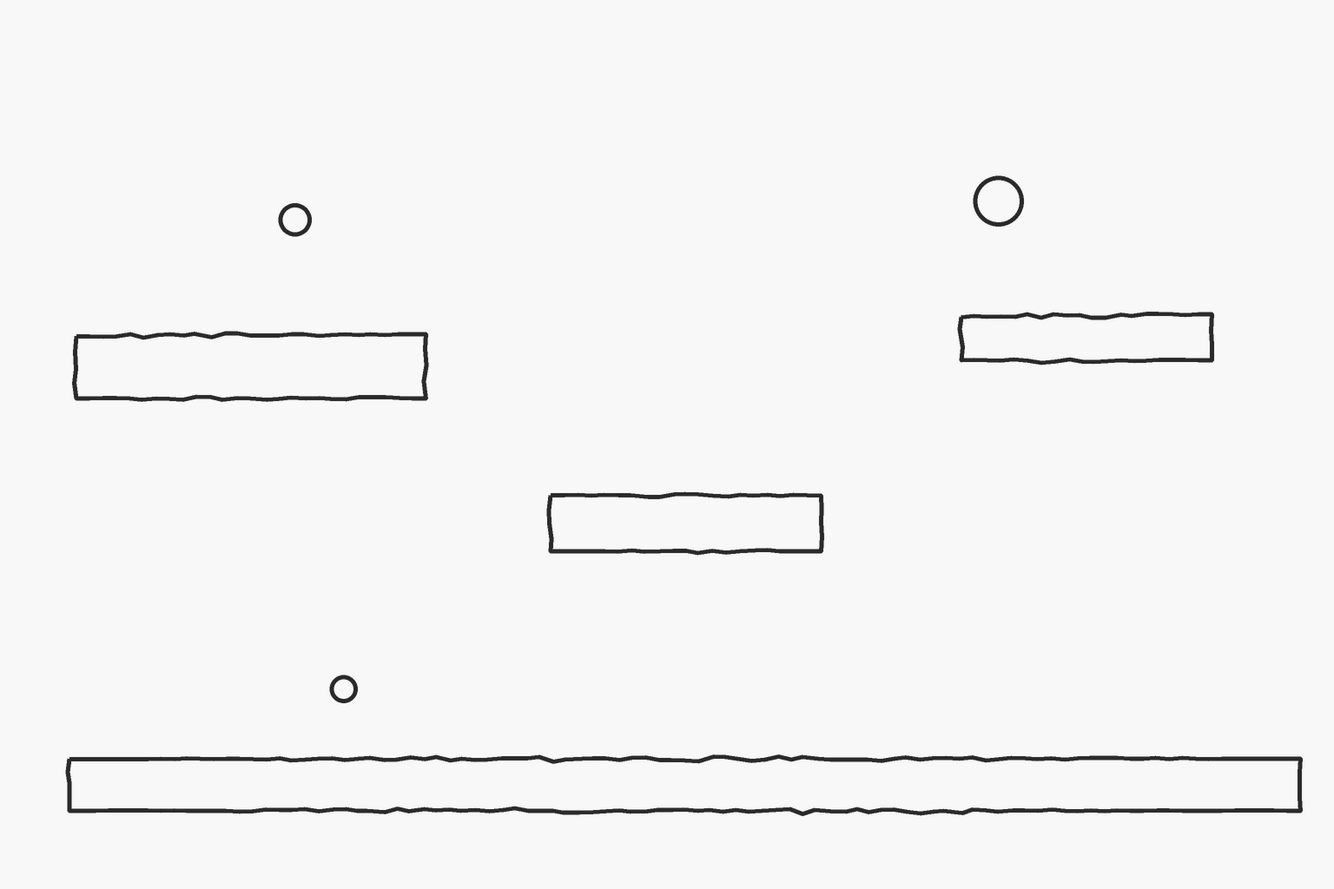exit: (1067, 531, 1212, 747)
player: (125, 558, 258, 756)
spikes: (779, 196, 989, 286), (584, 654, 772, 750)
terrain: (59, 733, 1271, 836), (508, 265, 1014, 380)
